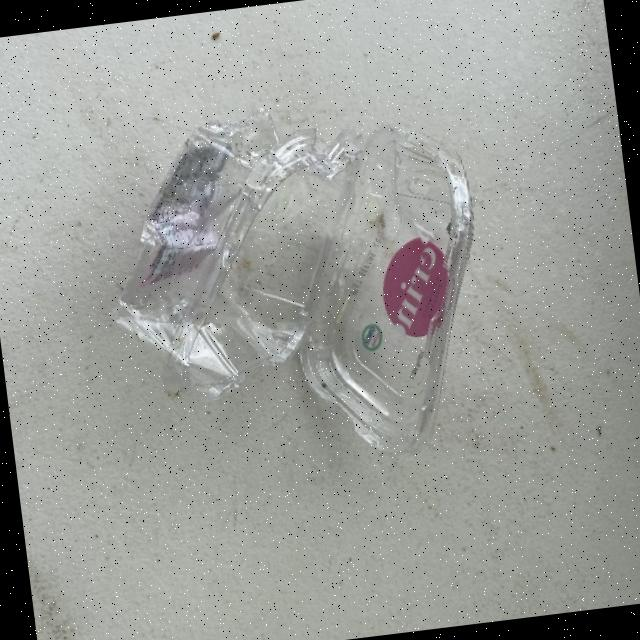plastic: (87, 82, 501, 486)
